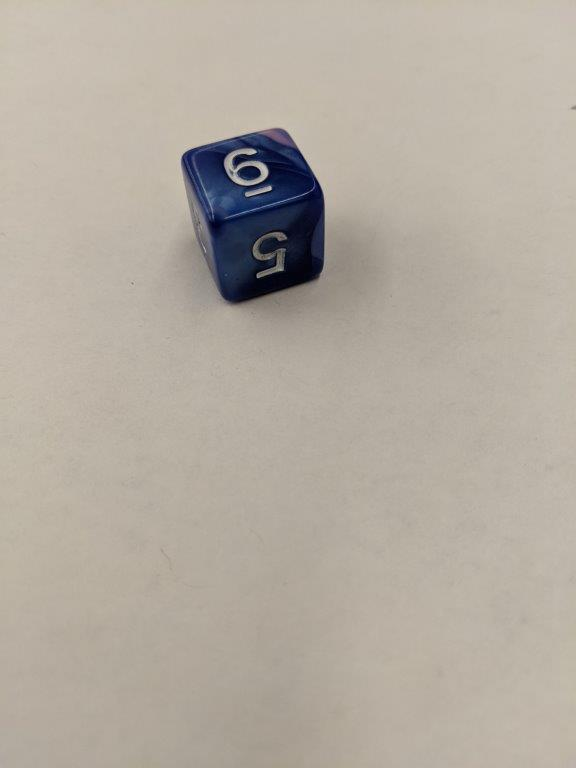d6-6: (176, 126, 326, 305)
